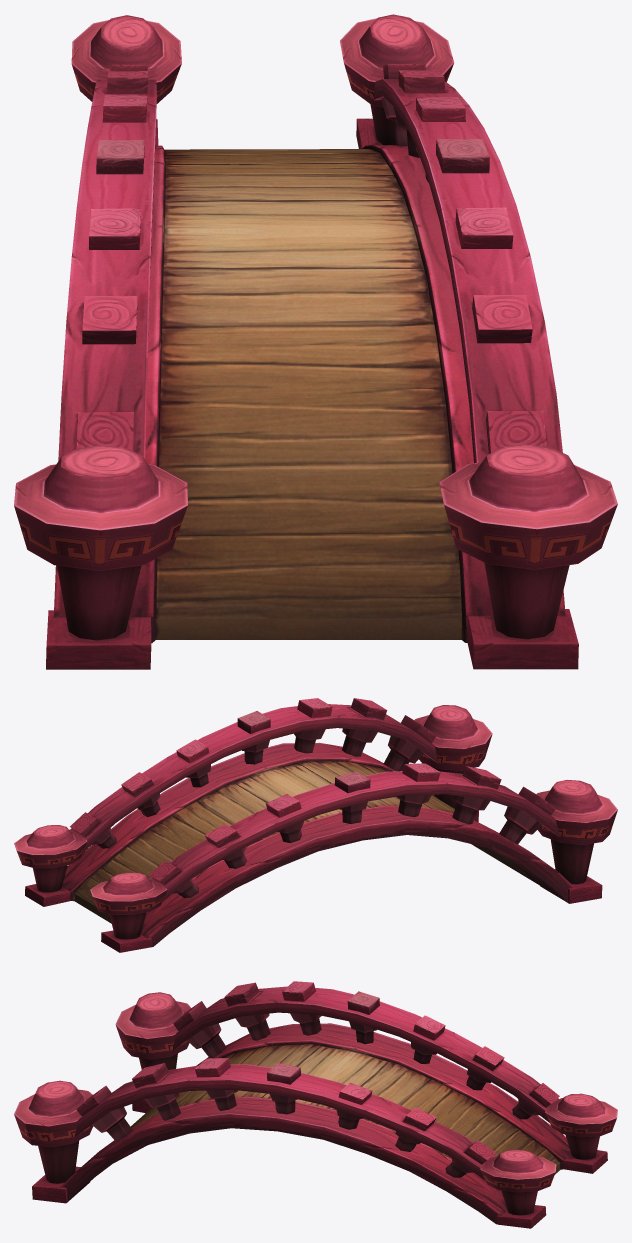
File: qiao.fbx
3 renders of one model, top to bottom at view 1: azimuth 30°, elevation 25°; view 2: azimuth 150°, elevation 25°; view 3: azimuth 270°, elevation 25°, orthographic. The views are drawn at different scales.
Visible parts, largest first — view 1: Object01; view 2: Object01; view 3: Object01.
Part boxes in pixels (bbox=[...]): Object01: bbox=[14, 14, 617, 669]; Object01: bbox=[14, 698, 617, 952]; Object01: bbox=[14, 981, 617, 1228].
Bounding box in the file's own units: 336 × 133 × 439.
Materials: 1 (1 with a texture image).
